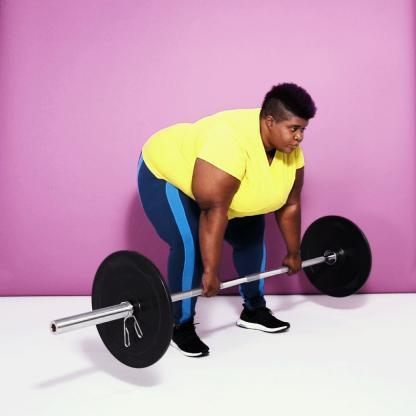Barbell: (49, 320, 63, 340)
